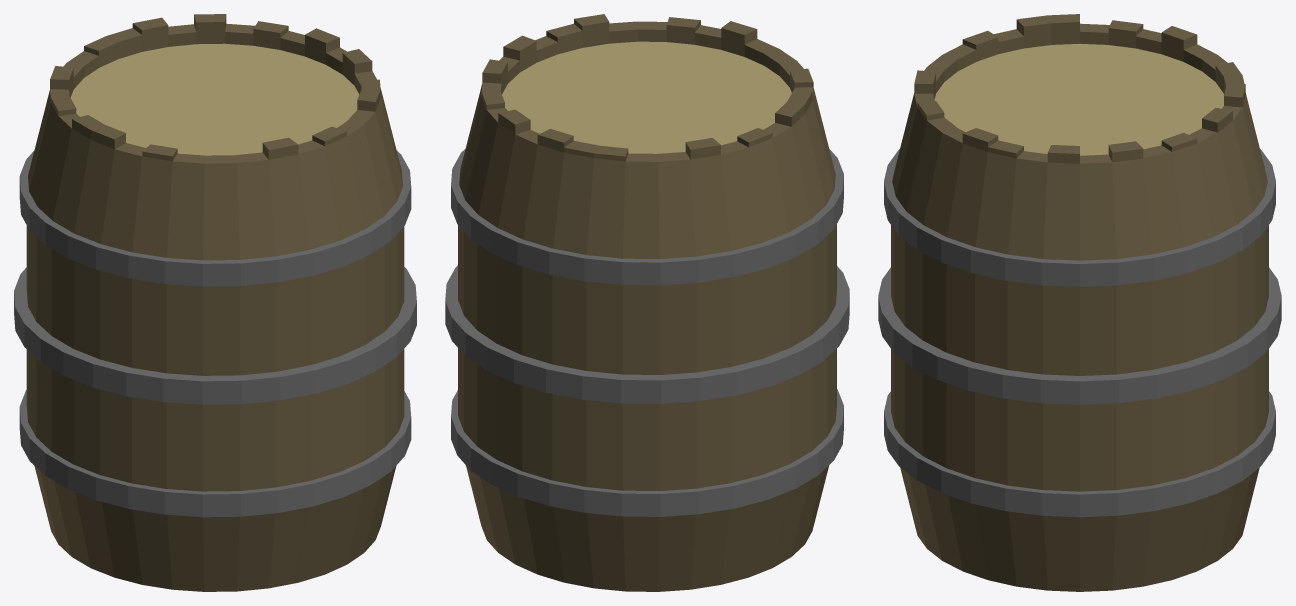
The model's file is ton.fbx.
3 views of the same model, side by side, from view 1: azimuth 30°, elevation 25°; view 2: azimuth 150°, elevation 25°; view 3: azimuth 270°, elevation 25° (orthographic).
Visible parts, largest first — view 1: Cylinder.003; view 2: Cylinder.003; view 3: Cylinder.003.
Part boxes in pixels (left/top/right/bottom): Cylinder.003: left=14, top=14, right=416, bottom=591; Cylinder.003: left=445, top=14, right=849, bottom=591; Cylinder.003: left=878, top=14, right=1281, bottom=591.
Size of the model in its own units: 1.5 by 1.79 by 1.5.
